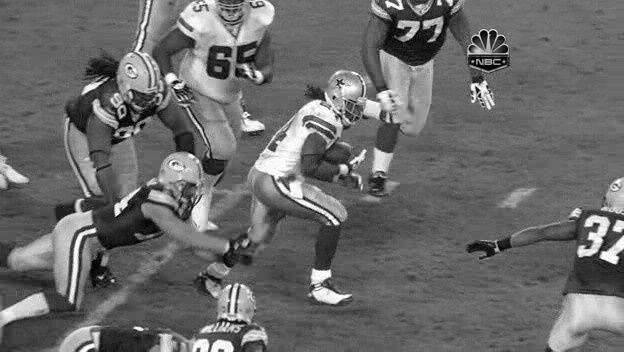person: (328, 73, 364, 122), (327, 73, 363, 122), (329, 73, 365, 122), (328, 72, 364, 121), (328, 74, 364, 123)
target_negative: (97, 61, 502, 321), (282, 190, 576, 307), (148, 114, 374, 262), (109, 281, 496, 343), (582, 103, 601, 239), (497, 279, 521, 316)
